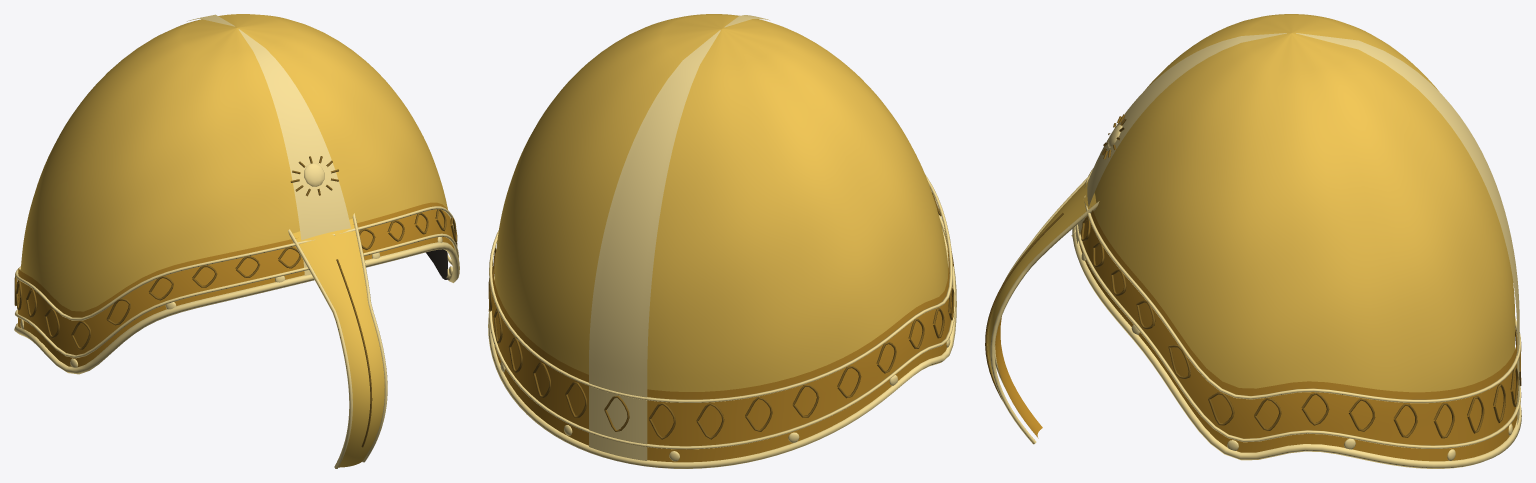
File: sunforged_viking_helm.glb
The picture shows the model from 3 angles, left to right: view 1: azimuth 30°, elevation 25°; view 2: azimuth 150°, elevation 25°; view 3: azimuth 270°, elevation 25°; orthographic projection. The views are drawn at different scales.
Parts seen in each view (by area): view 1: sunforged_viking_helm: highly polished sunforged gold, sunforged_viking_helm: burnished pale gold edges, sunforged_viking_helm: warm hammered gold bands, sunforged_viking_helm: deep engraved gold recesses; view 2: sunforged_viking_helm: highly polished sunforged gold, sunforged_viking_helm: burnished pale gold edges, sunforged_viking_helm: warm hammered gold bands, sunforged_viking_helm: deep engraved gold recesses; view 3: sunforged_viking_helm: highly polished sunforged gold, sunforged_viking_helm: warm hammered gold bands, sunforged_viking_helm: burnished pale gold edges, sunforged_viking_helm: deep engraved gold recesses.
Part boxes in pixels (x1=…): sunforged_viking_helm: highly polished sunforged gold: x1=20, y1=14, x2=447, y2=467; sunforged_viking_helm: burnished pale gold edges: x1=14, y1=14, x2=459, y2=468; sunforged_viking_helm: warm hammered gold bands: x1=18, y1=202, x2=454, y2=366; sunforged_viking_helm: deep engraved gold recesses: x1=14, y1=156, x2=457, y2=447; sunforged_viking_helm: highly polished sunforged gold: x1=494, y1=14, x2=948, y2=391; sunforged_viking_helm: burnished pale gold edges: x1=488, y1=15, x2=956, y2=468; sunforged_viking_helm: warm hammered gold bands: x1=492, y1=228, x2=952, y2=462; sunforged_viking_helm: deep engraved gold recesses: x1=488, y1=192, x2=954, y2=439; sunforged_viking_helm: highly polished sunforged gold: x1=987, y1=14, x2=1515, y2=392; sunforged_viking_helm: warm hammered gold bands: x1=995, y1=210, x2=1517, y2=461; sunforged_viking_helm: burnished pale gold edges: x1=990, y1=33, x2=1521, y2=468; sunforged_viking_helm: deep engraved gold recesses: x1=985, y1=114, x2=1521, y2=438.
Bounding box in the file's own units: 0.5839 × 0.4985 × 0.6012.
